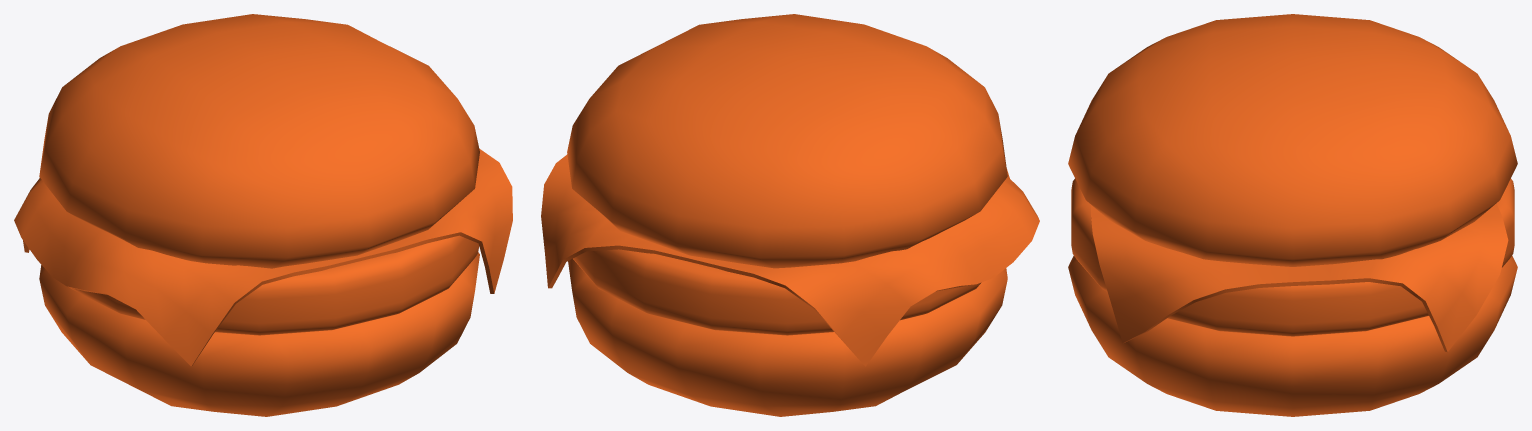
The model's file is HamburgerOrta.FBX.
The picture shows the model from 3 angles, left to right: view 1: azimuth 30°, elevation 25°; view 2: azimuth 150°, elevation 25°; view 3: azimuth 270°, elevation 25°; orthographic projection.
Parts seen in each view (by area): view 1: HamburgerOrta; view 2: HamburgerOrta; view 3: HamburgerOrta.
Part boxes in pixels (left/top/right/bottom): HamburgerOrta: left=14, top=14, right=512, bottom=416; HamburgerOrta: left=541, top=14, right=1039, bottom=416; HamburgerOrta: left=1068, top=14, right=1517, bottom=416.
Bounding box in the file's own units: 167 × 121 × 154.
